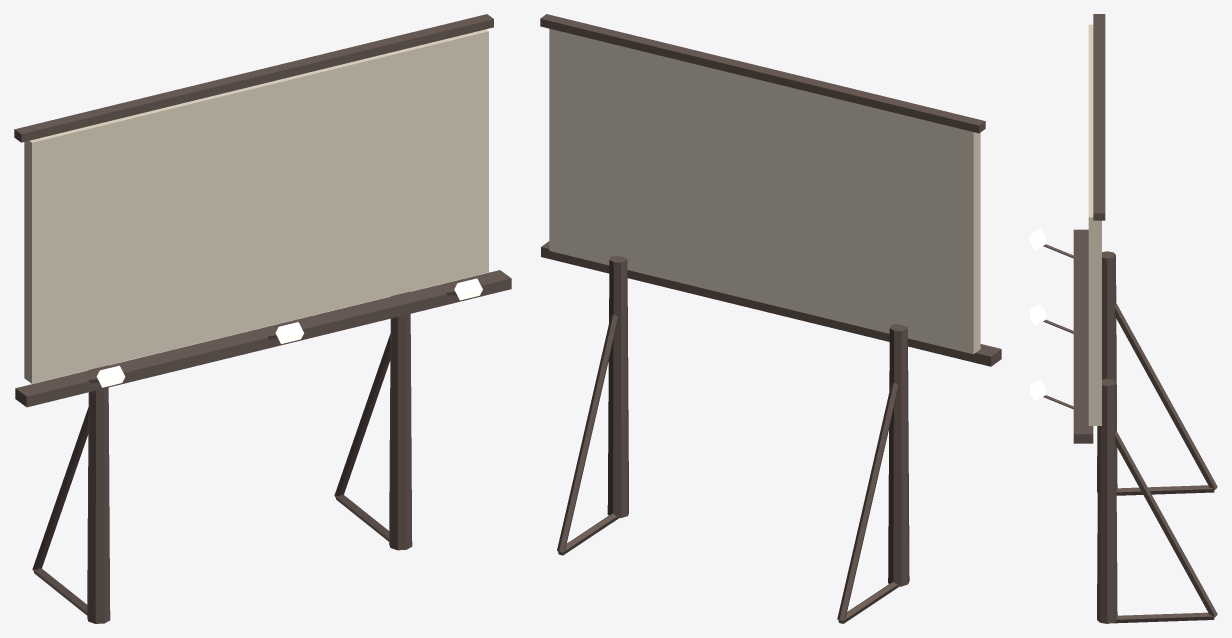
The model's file is billboard.glb.
The picture shows the model from 3 angles, left to right: view 1: azimuth 30°, elevation 25°; view 2: azimuth 150°, elevation 25°; view 3: azimuth 270°, elevation 25°; orthographic projection. The views are drawn at different scales.
Visible parts, largest first — view 1: billboard; view 2: billboard; view 3: billboard.
Boxes of the visible parts, left/top/right/bottom form: billboard: left=14, top=14, right=511, bottom=623; billboard: left=540, top=14, right=1001, bottom=623; billboard: left=1030, top=14, right=1217, bottom=623.
Bounding box in the file's own units: 12.2 × 12.38 × 4.73.
